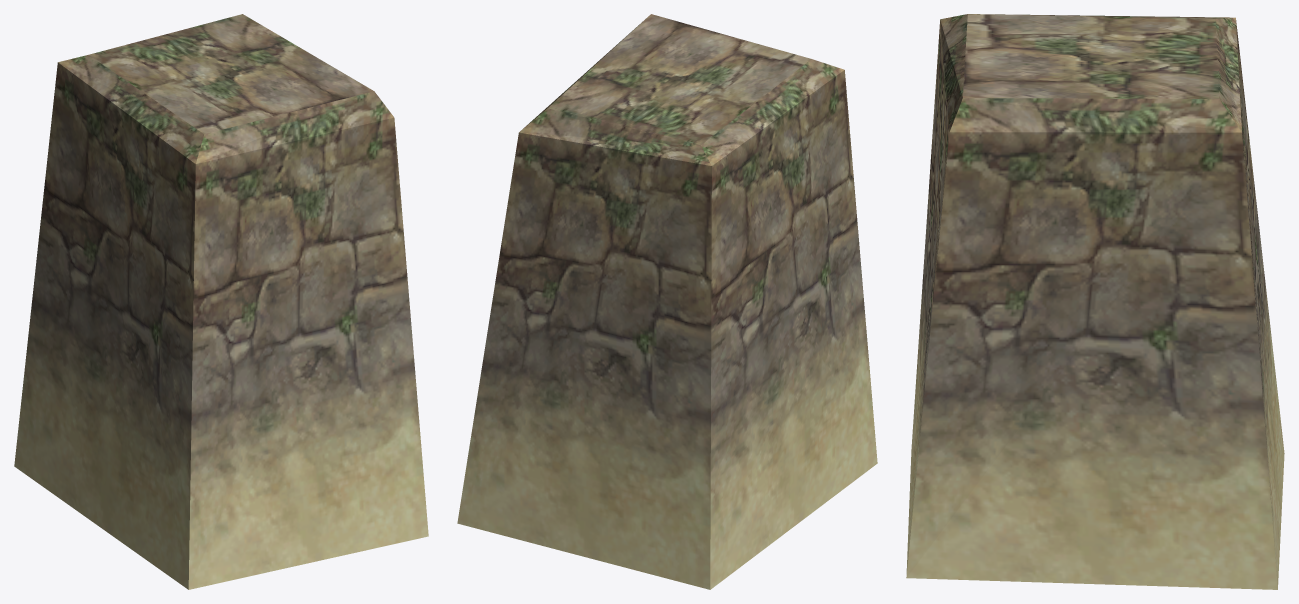
Rendered from C3SMBRIDGEPOSTH.obj.
The picture shows the model from 3 angles, left to right: view 1: azimuth 30°, elevation 25°; view 2: azimuth 150°, elevation 25°; view 3: azimuth 270°, elevation 25°; orthographic projection. The views are drawn at different scales.
Parts seen in each view (by area): view 1: Node 0; view 2: Node 0; view 3: Node 0.
Boxes of the visible parts, bbox=[...] form: Node 0: bbox=[14, 14, 428, 589]; Node 0: bbox=[457, 14, 877, 589]; Node 0: bbox=[906, 14, 1284, 589].
Size of the model in its own units: 5.93 by 9.3 by 6.84.
1 material, 1 textured.
